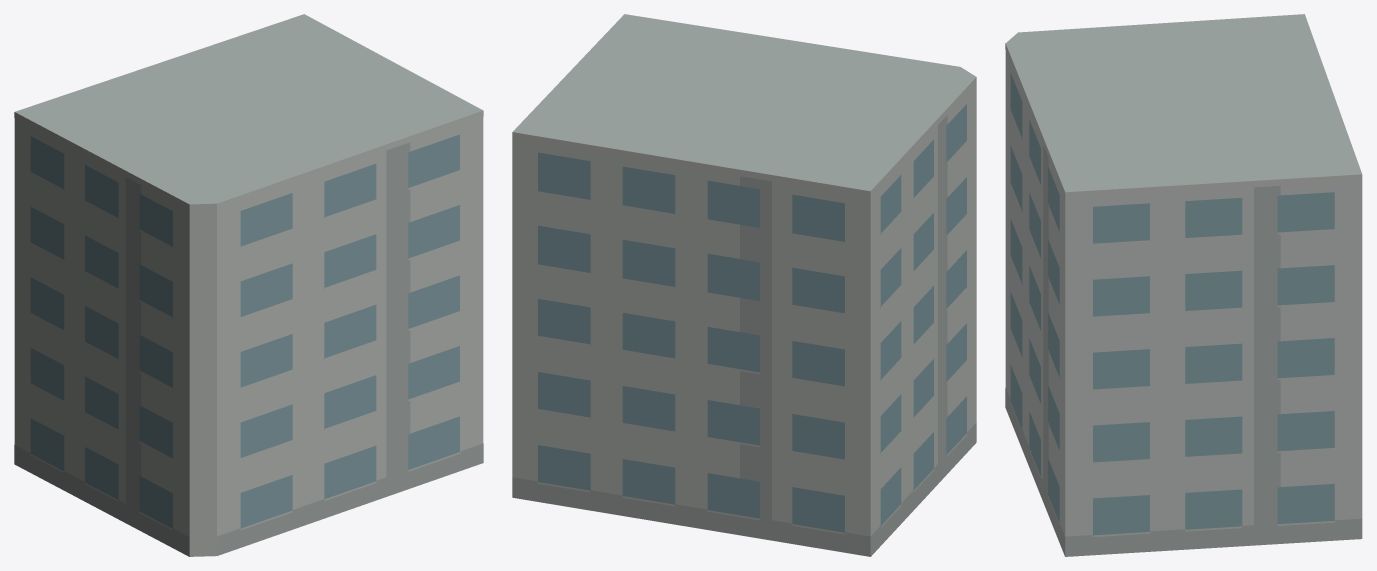
File: survey-upis-32956532.glb
3 views of the same model, side by side, from view 1: azimuth 30°, elevation 25°; view 2: azimuth 150°, elevation 25°; view 3: azimuth 270°, elevation 25° (orthographic). The views are drawn at different scales.
Parts seen in each view (by area): view 1: survey-upis-32956532.tmp; view 2: survey-upis-32956532.tmp; view 3: survey-upis-32956532.tmp.
Boxes of the visible parts, left/top/right/bottom form: survey-upis-32956532.tmp: left=14, top=14, right=483, bottom=556; survey-upis-32956532.tmp: left=512, top=14, right=976, bottom=556; survey-upis-32956532.tmp: left=1005, top=14, right=1362, bottom=556.
Bounding box in the file's own units: 14.48 × 13.8 × 12.25.
